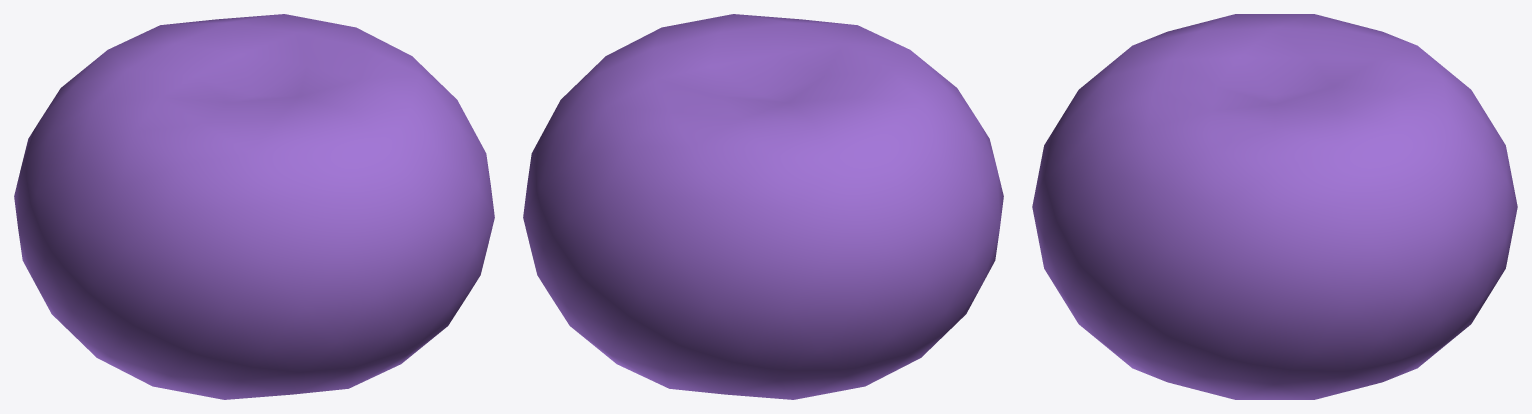
The model's file is pufe.glb.
The picture shows the model from 3 angles, left to right: view 1: azimuth 30°, elevation 25°; view 2: azimuth 150°, elevation 25°; view 3: azimuth 270°, elevation 25°; orthographic projection.
Parts seen in each view (by area): view 1: pufe; view 2: pufe; view 3: pufe.
Boxes of the visible parts, x1,y1,x2,y2 form: pufe: (14,14,494,399); pufe: (523,14,1003,399); pufe: (1032,14,1517,399).
Size of the model in its own units: 0.88 by 0.514 by 0.88.
